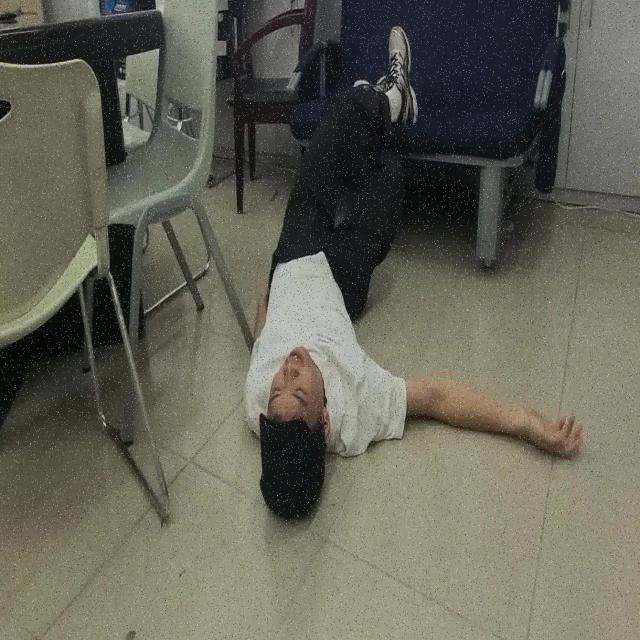fall: (240, 22, 584, 526)
